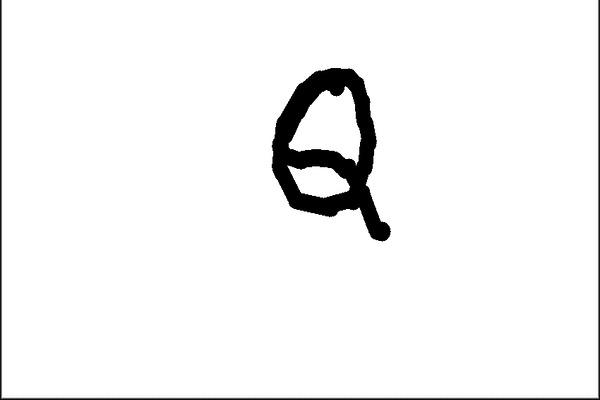Q: (252, 55, 397, 253)
